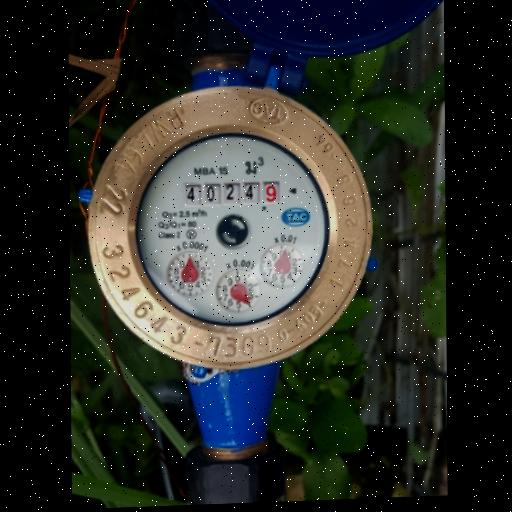0: (205, 183, 220, 203)
2: (225, 181, 240, 204)
4: (187, 183, 200, 205), (246, 183, 259, 202)
9: (265, 183, 278, 203)
border_water_meter_number: (181, 176, 284, 211)
